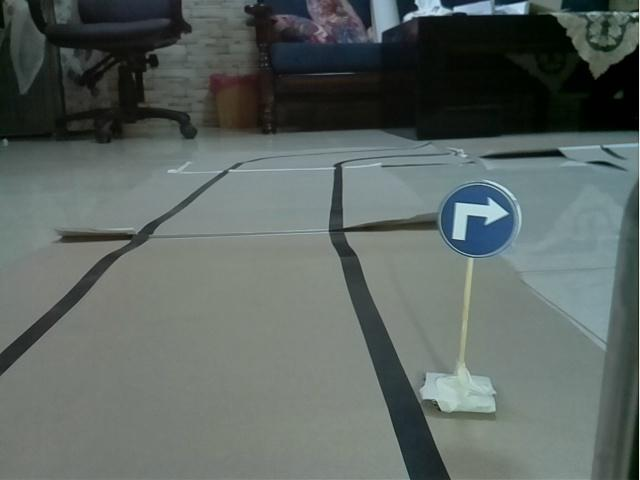turn: (436, 176, 522, 261)
